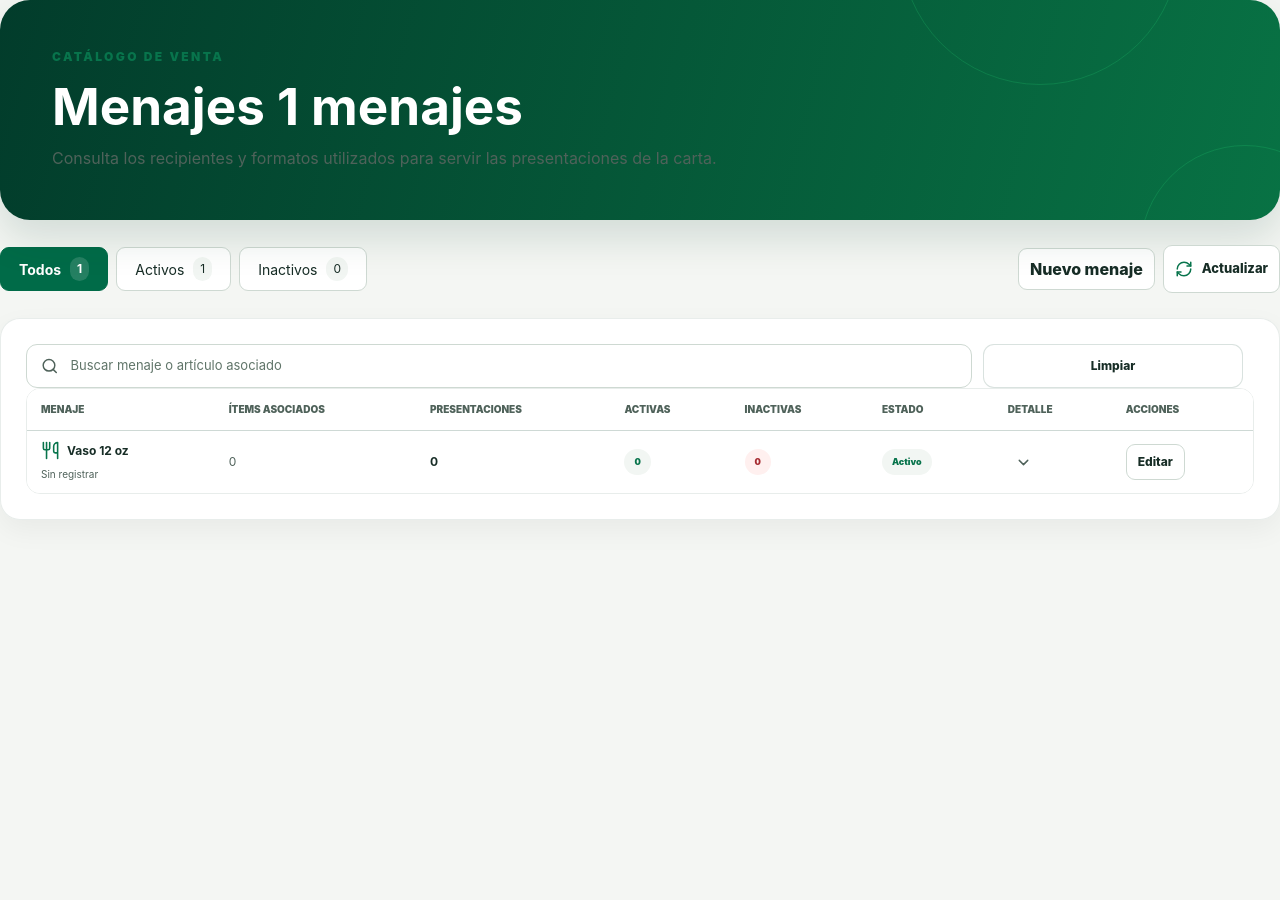
offers a single fluid ounce unit and rectangular dimensions
Later steps or results of the test are not shown.
Click the button "Editar": (1155, 462) [1126, 444, 1185, 480]
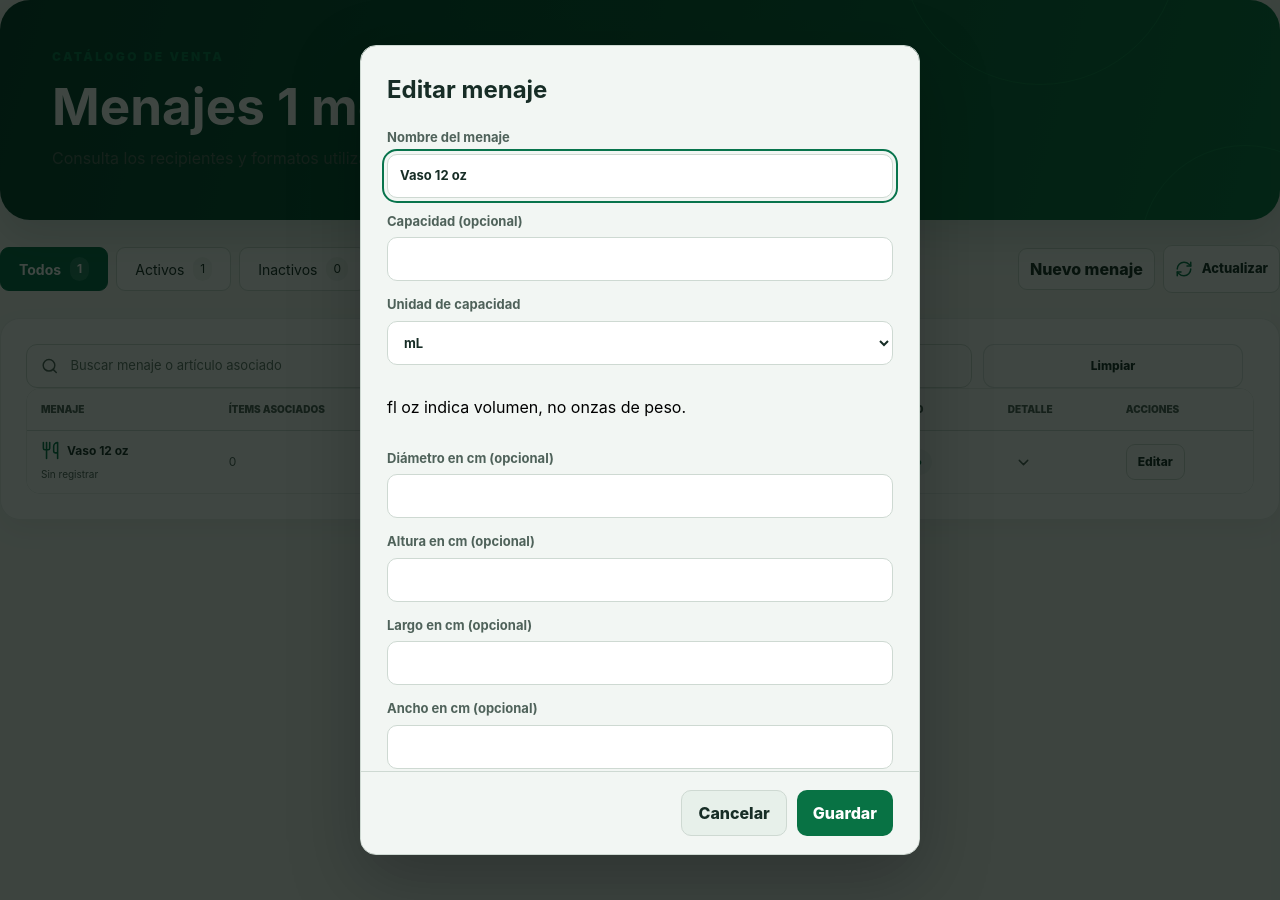
In the number field labelled "Capacidad (opcional)": (640, 259) [387, 237, 893, 281], type "12"
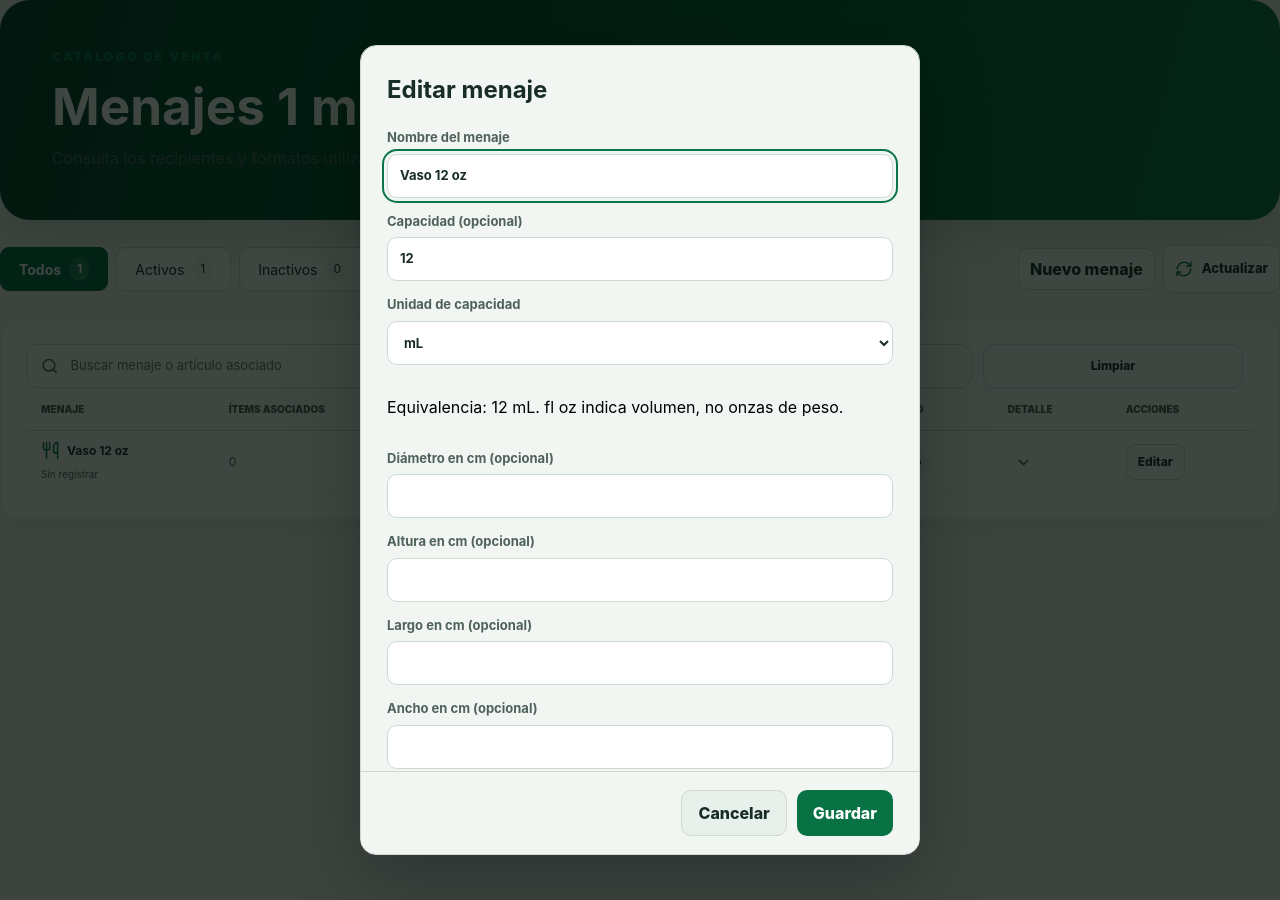
Select "Onzas líquidas (oz)" in the dropdown labelled "Unidad de capacidad": (640, 342) [387, 320, 893, 364]
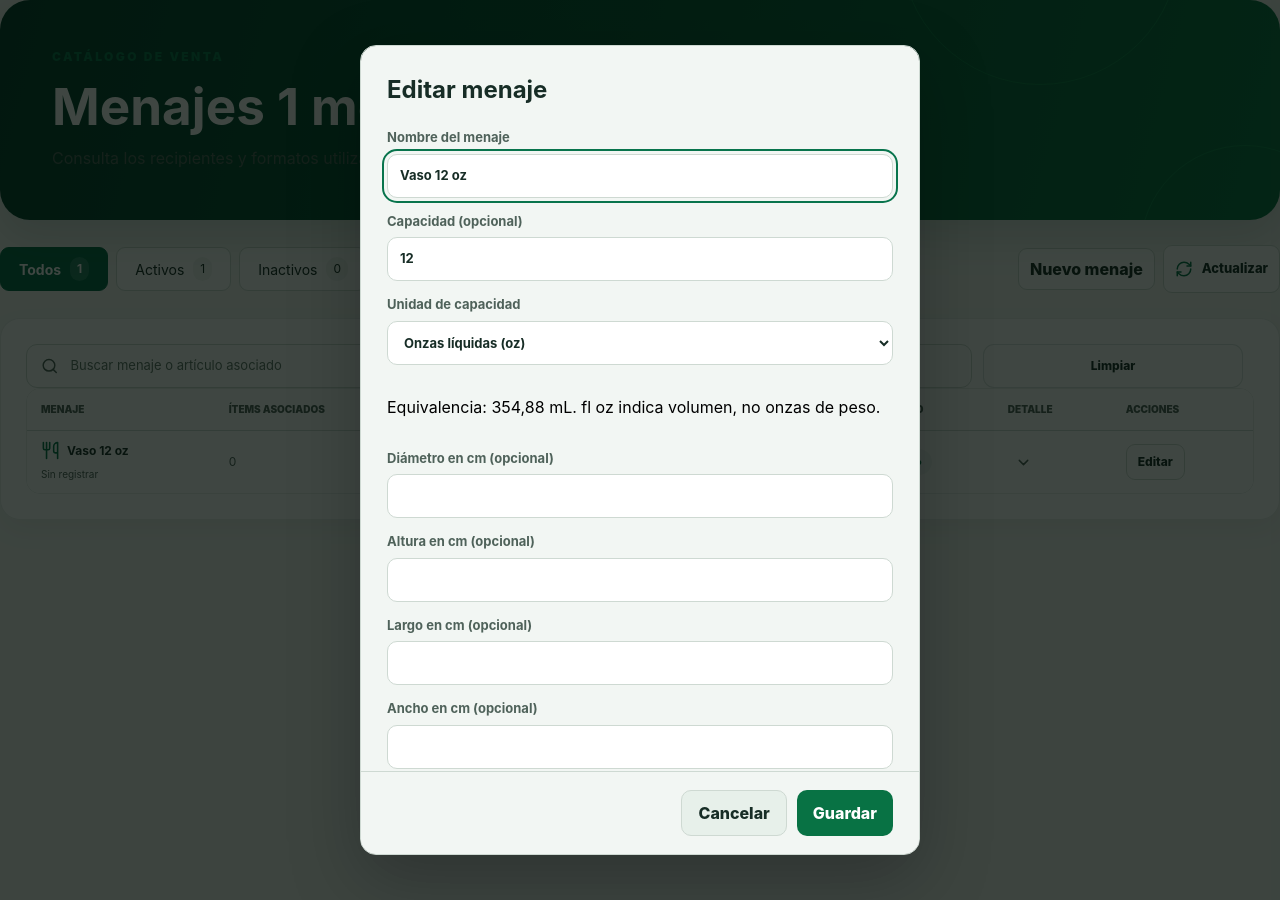
Result: the text "354,88 mL" is shown at [387, 396, 581, 416]
